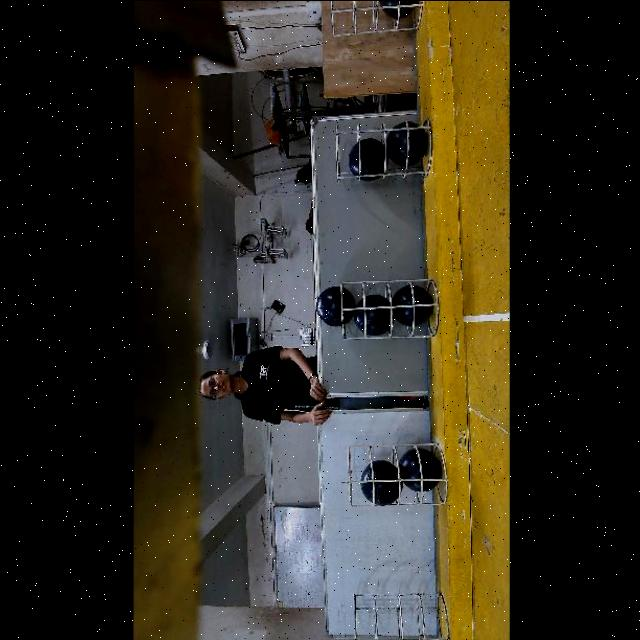P: (398, 447, 441, 491), (386, 120, 427, 166), (361, 459, 402, 504), (347, 137, 388, 180), (352, 294, 393, 335), (392, 284, 432, 325), (315, 285, 354, 326), (380, 0, 417, 16)
S: (331, 114, 433, 184), (347, 438, 445, 509), (348, 582, 446, 640), (341, 280, 439, 338), (322, 1, 424, 40)
